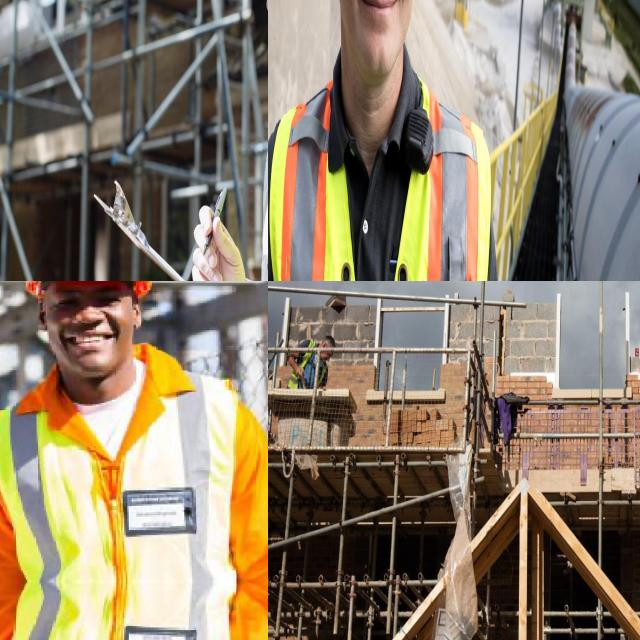No_Ear-Protection: (38, 299, 48, 332), (133, 300, 142, 327)
No_Glasses: (49, 288, 127, 310)
face_nomask: (331, 0, 426, 68), (48, 308, 134, 375)
hand_noglove: (179, 194, 256, 281), (292, 360, 306, 385)
head_nohelmet: (324, 320, 338, 358)
person: (268, 0, 518, 281), (177, 0, 268, 281), (288, 325, 336, 392)
vest: (270, 70, 487, 281)
